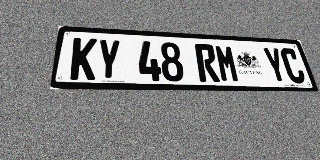4: (138, 41, 162, 81)
8: (160, 42, 184, 81)
C: (279, 48, 307, 83)
K: (69, 38, 97, 80)
M: (214, 45, 241, 82)
R: (194, 44, 220, 82)
Y: (261, 47, 289, 83), (96, 39, 120, 80)
